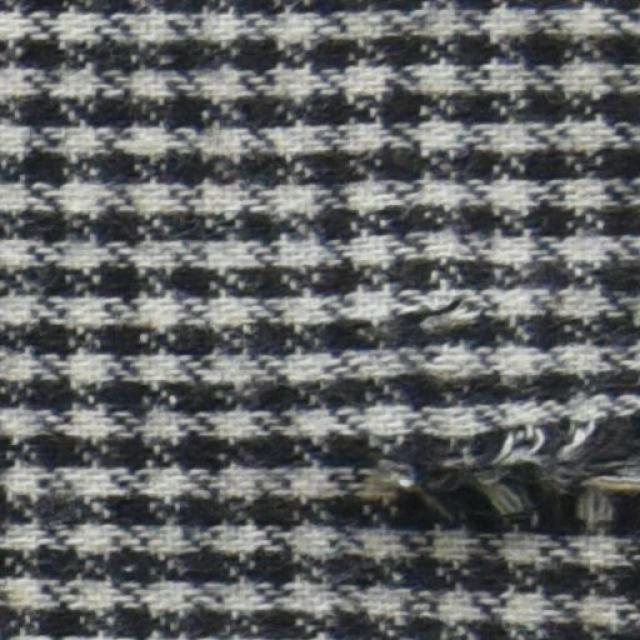Snag: (374, 375, 639, 518)
